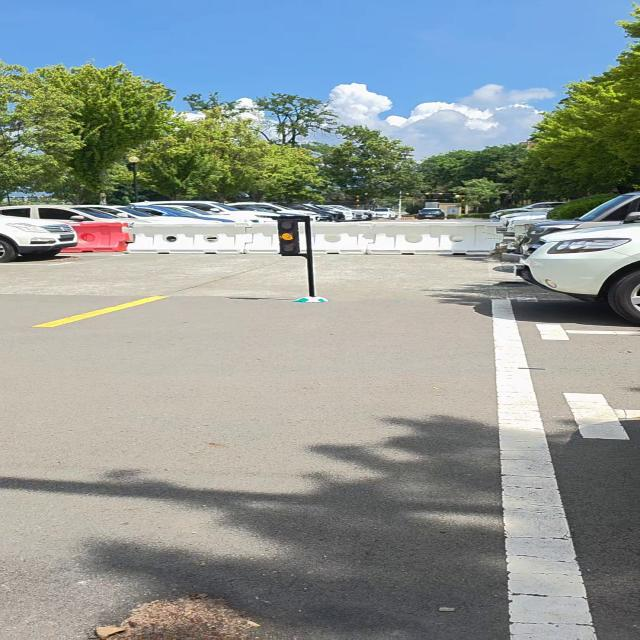yellow: (276, 218, 303, 256)
